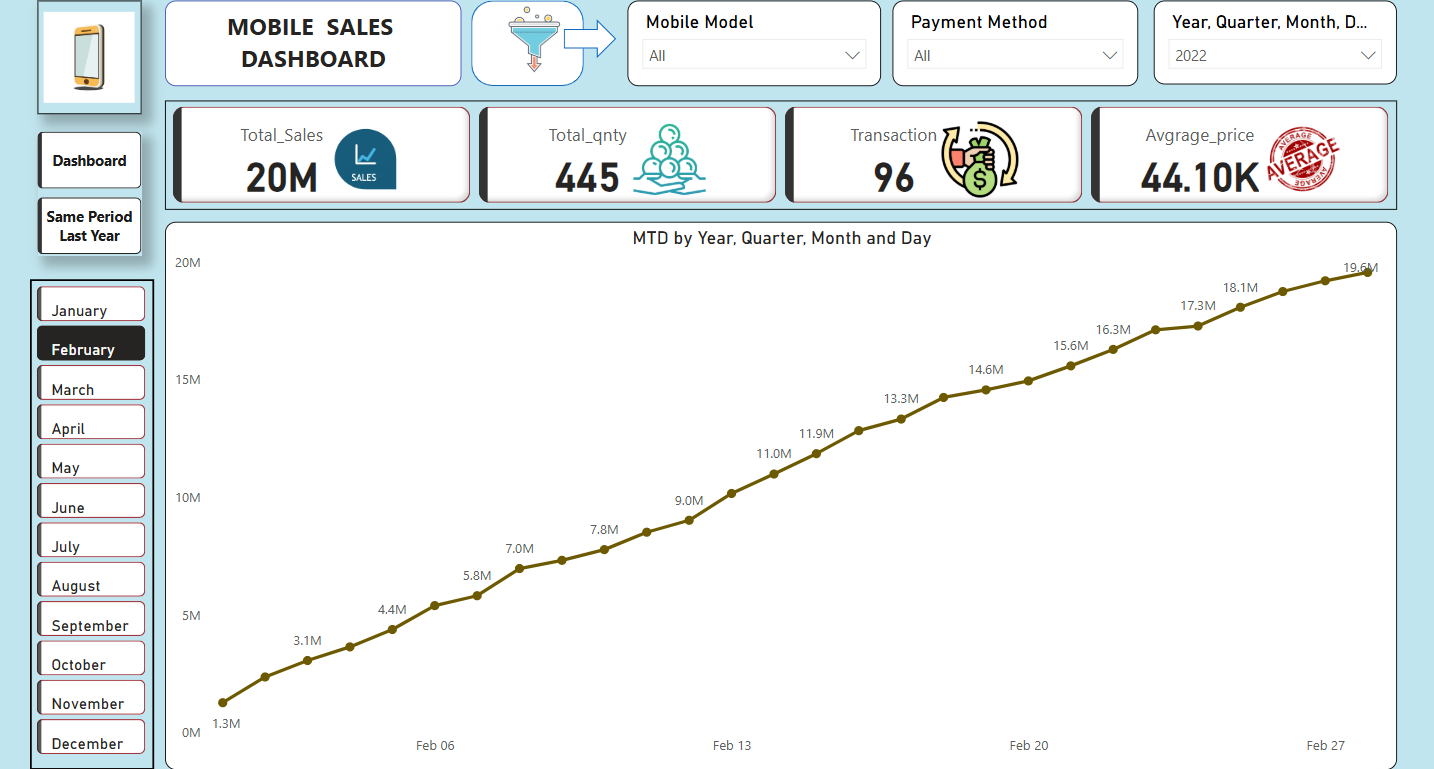

The page's visual inventory and layout, read from the dashboard file:
{"tool":"powerbi","page":{"name":"MTD Report","canvas":[1280,720],"ordinal":1},"visuals":[{"type":"advancedSlicerVisual","fields":{"Values":["Custom_Calendar.Date.Variation.Date Hierarchy.Month"]},"box":[13.4,266.6,113.7,448.8],"z":0},{"type":"cardVisual","fields":{"Data":["Sales_Data.Total_Sales","Sales_Data.Total_qnty","Sales_Data.Transaction","Sales_Data.Avgrage_price"]},"box":[137,102.7,1127.5,100.3],"z":1000},{"type":"slicer","fields":{"Values":["Sales_Data.Mobile Model"]},"box":[559.9,11,231.9,78.2],"z":2000},{"type":"slicer","fields":{"Values":["Sales_Data.Payment Method"]},"box":[802.8,11,225,78.2],"z":3000},{"type":"shape","box":[418,11,102.9,78.2],"z":4000},{"type":"slicer","fields":{"Values":["Custom_Calendar.Date.Variation.Date Hierarchy.Year","Custom_Calendar.Date.Variation.Date Hierarchy.Quarter","Custom_Calendar.Date.Variation.Date Hierarchy.Month","Custom_Calendar.Date.Variation.Date Hierarchy.Day"]},"box":[1041.5,11,222.3,76.8],"z":5000},{"type":"image","box":[440.5,11,70,71.4],"z":6000},{"type":"shape","box":[502.2,28.8,48,35.7],"z":7000},{"type":"textbox","box":[137,11,271.5,78.3],"z":8000},{"type":"lineChart","fields":{"Y":["Sales_Data.MTD"],"Category":["Custom_Calendar.Date.Variation.Date Hierarchy.Year","Custom_Calendar.Date.Variation.Date Hierarchy.Quarter","Custom_Calendar.Date.Variation.Date Hierarchy.Month","Custom_Calendar.Date.Variation.Date Hierarchy.Day"]},"box":[137,214,1127.5,501.4],"z":9000},{"type":"pageNavigator","box":[20.8,132.1,95.4,113.7],"z":10000},{"type":"image","box":[20.8,11,95.4,103.9],"z":11000}]}

Visuals, with their boxes in screenshot pixels (x1, y1, x2, y2):
advancedSlicerVisual - Custom_Calendar.Date.Variation.Date Hierarchy.Month: bbox=[30, 280, 154, 768]
cardVisual - Sales_Data.Total_Sales x Sales_Data.Total_qnty: bbox=[165, 101, 1396, 211]
slicer - Sales_Data.Mobile Model: bbox=[627, 1, 880, 86]
slicer - Sales_Data.Payment Method: bbox=[892, 1, 1138, 86]
shape: bbox=[472, 1, 584, 86]
slicer - Custom_Calendar.Date.Variation.Date Hierarchy.Year x Custom_Calendar.Date.Variation.Date Hierarchy.Quarter: bbox=[1153, 1, 1396, 85]
image: bbox=[496, 1, 573, 79]
shape: bbox=[564, 20, 616, 59]
textbox: bbox=[165, 1, 461, 86]
lineChart - Sales_Data.MTD x Custom_Calendar.Date.Variation.Date Hierarchy.Year: bbox=[165, 223, 1396, 768]
pageNavigator: bbox=[38, 133, 142, 257]
image: bbox=[38, 1, 142, 114]
